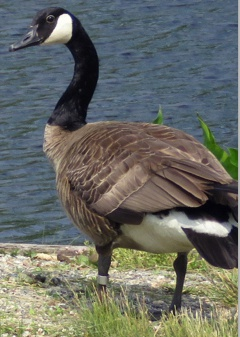goose: (8, 5, 240, 308)
